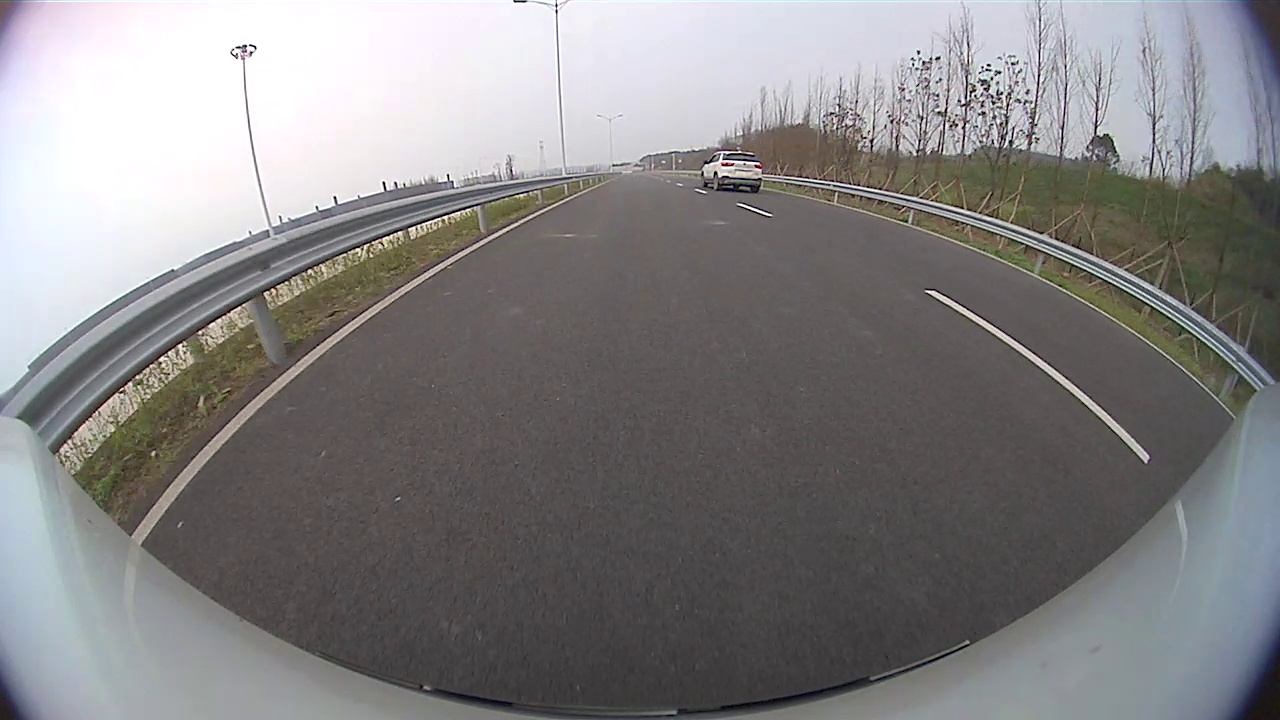car: (700, 150, 762, 193)
rear: (712, 173, 720, 190)
